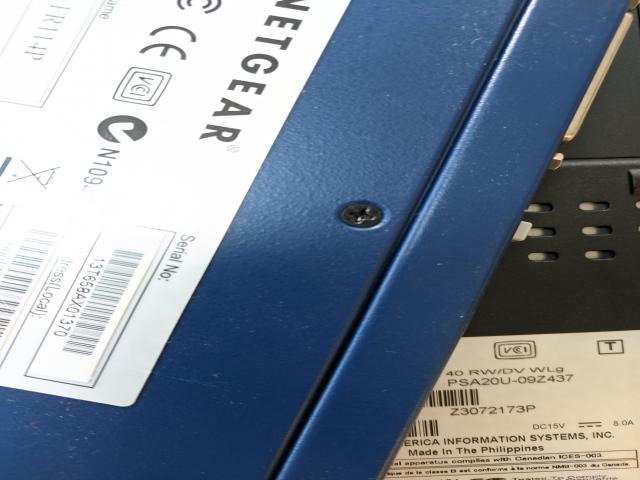CRS: (328, 197, 394, 232)
